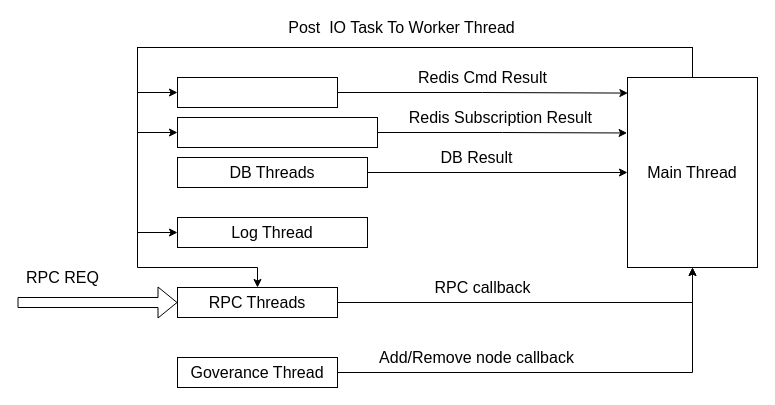
This 775x405 diagram has some shape labels left out. The box of each missing label's shape, as (x1, y1, x2, y2) in pixels:
Redis Subscription Thread: (176, 116, 378, 148)
Redis Worker Thread: (176, 76, 338, 108)
